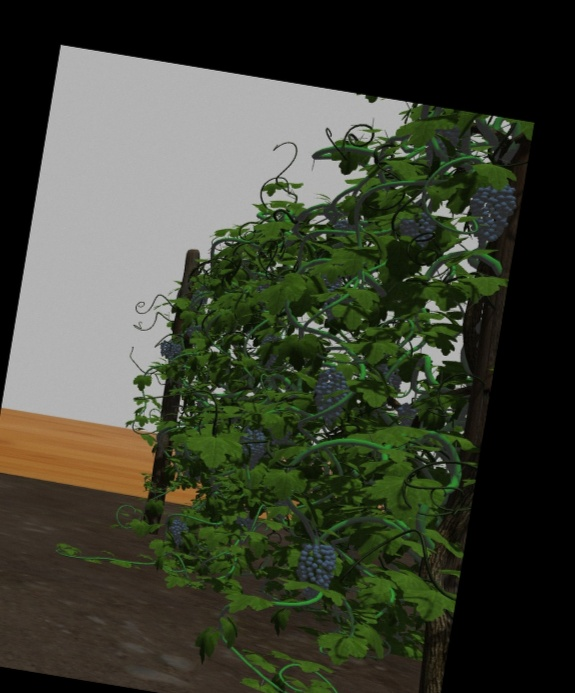grape: (470, 178, 514, 244), (297, 541, 339, 590), (312, 370, 346, 420), (398, 208, 435, 247), (238, 428, 266, 469), (167, 518, 188, 546), (158, 339, 171, 359), (169, 342, 181, 360)
